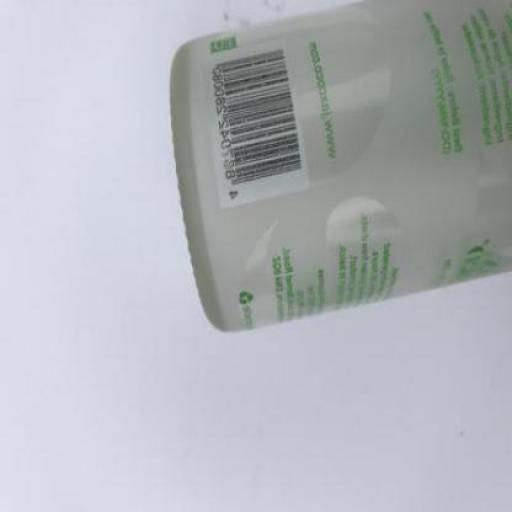glass: (168, 1, 510, 335)
